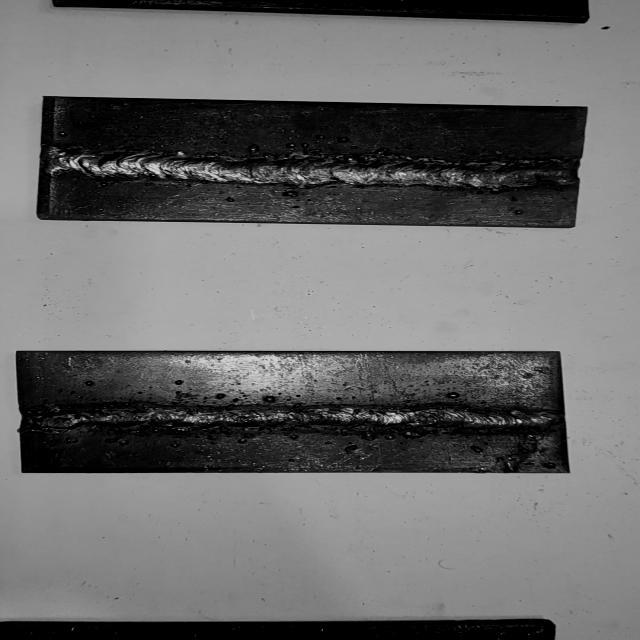Defect: (17, 392, 102, 444), (464, 430, 560, 471)
Welding Line: (52, 146, 575, 188), (28, 405, 560, 430)
Workpiece: (33, 94, 590, 234), (12, 348, 580, 478)
